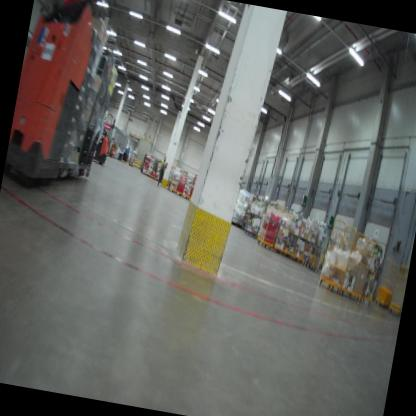pallet_truck: (4, 0, 117, 199), (89, 104, 119, 171), (102, 131, 117, 159)
